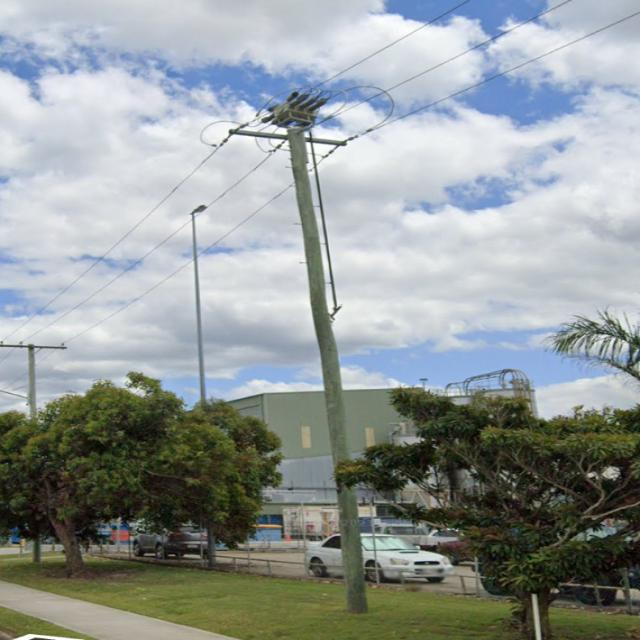HV-switch: (262, 90, 330, 129)
crossarm: (229, 128, 348, 146), (2, 342, 68, 350)
timber-pole: (289, 127, 372, 617), (26, 343, 42, 565)
